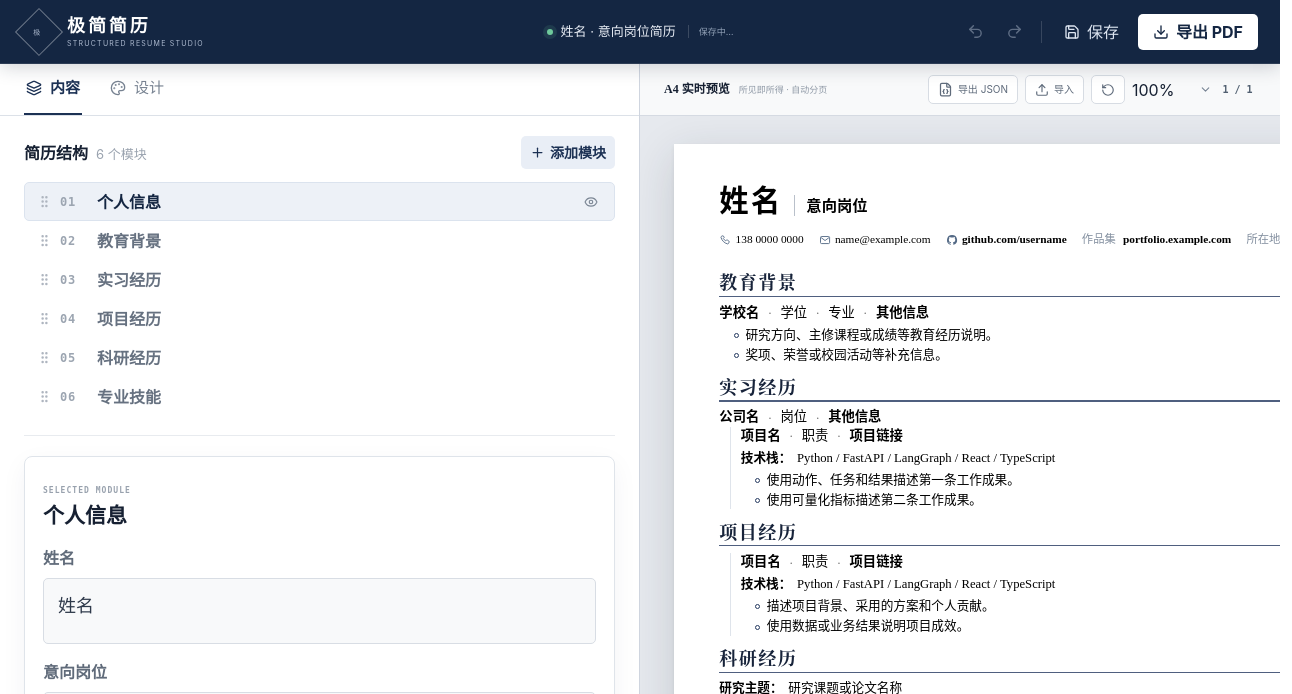
Test: ResumeWorkbench › updates the A4 preview immediately when the profile name changes
Step 1. Clear the field labelled "姓名" → point(76, 606), box 58,595 -> 94,616
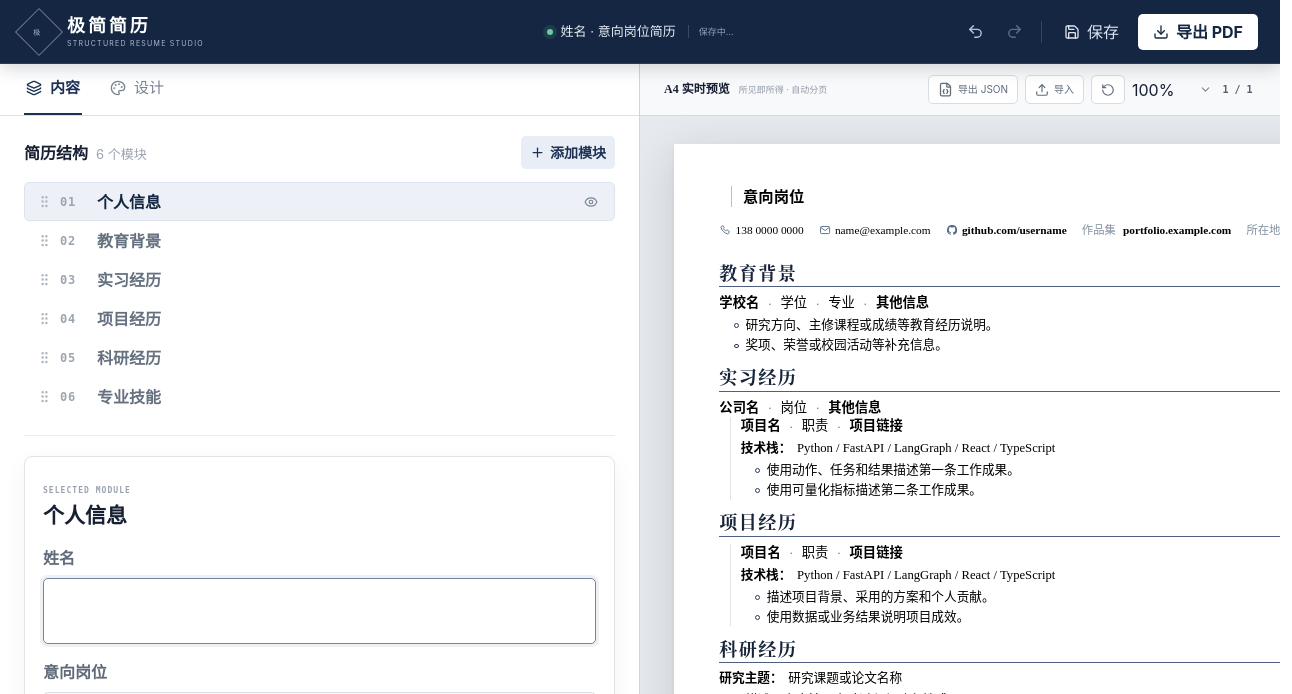
Step 2. Type "陈序" into the field named "姓名" → point(320, 611), box 44,579 -> 595,643
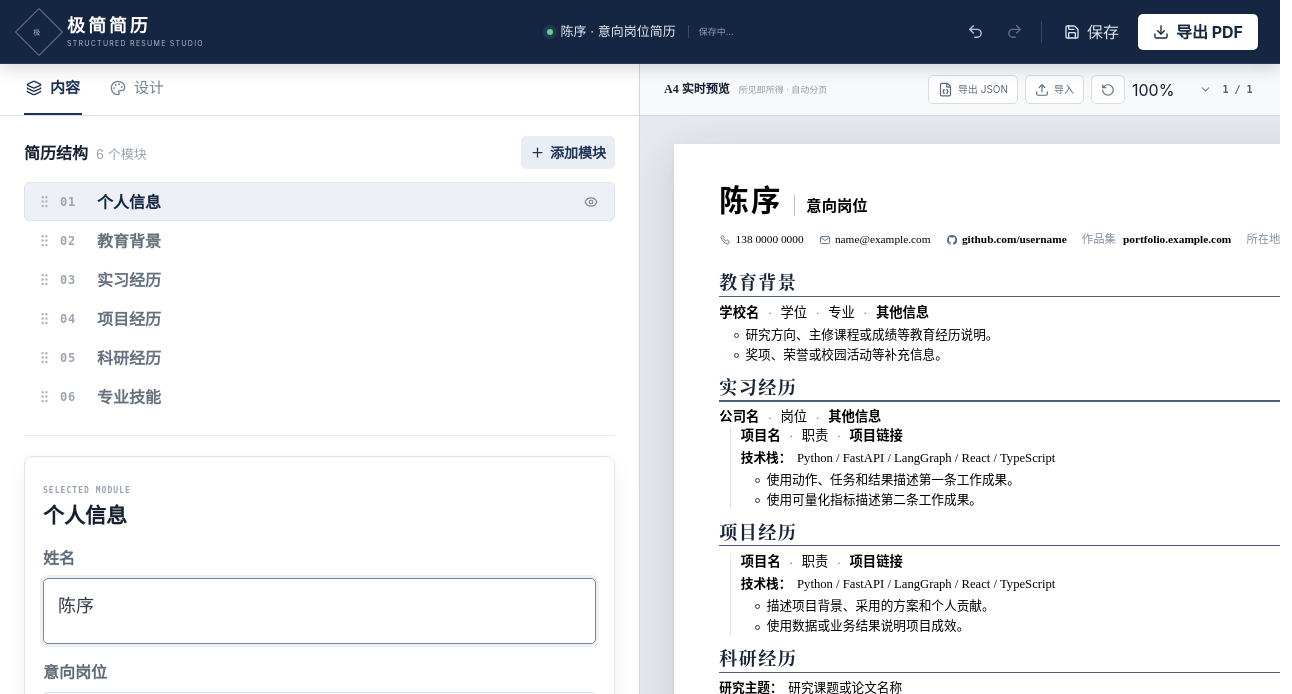
expect the element with test id "resume-preview" shows "陈序": met, box 719,184 -> 783,216
